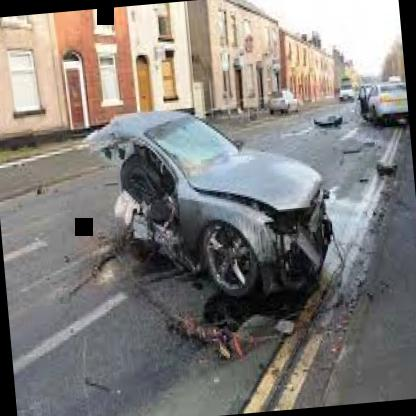accident: (89, 80, 366, 378)
